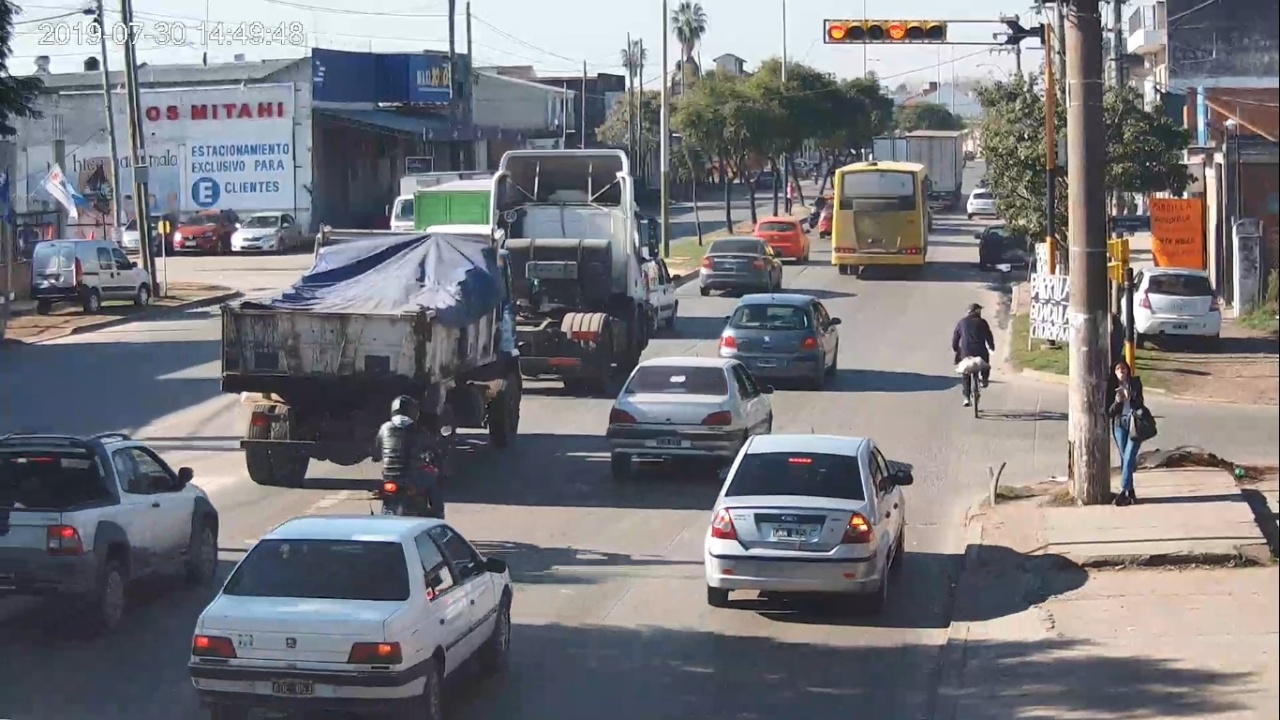bicycle: (952, 302, 993, 418)
bus: (832, 160, 929, 277)
car: (189, 517, 514, 720), (10, 432, 219, 622), (704, 434, 914, 606)
